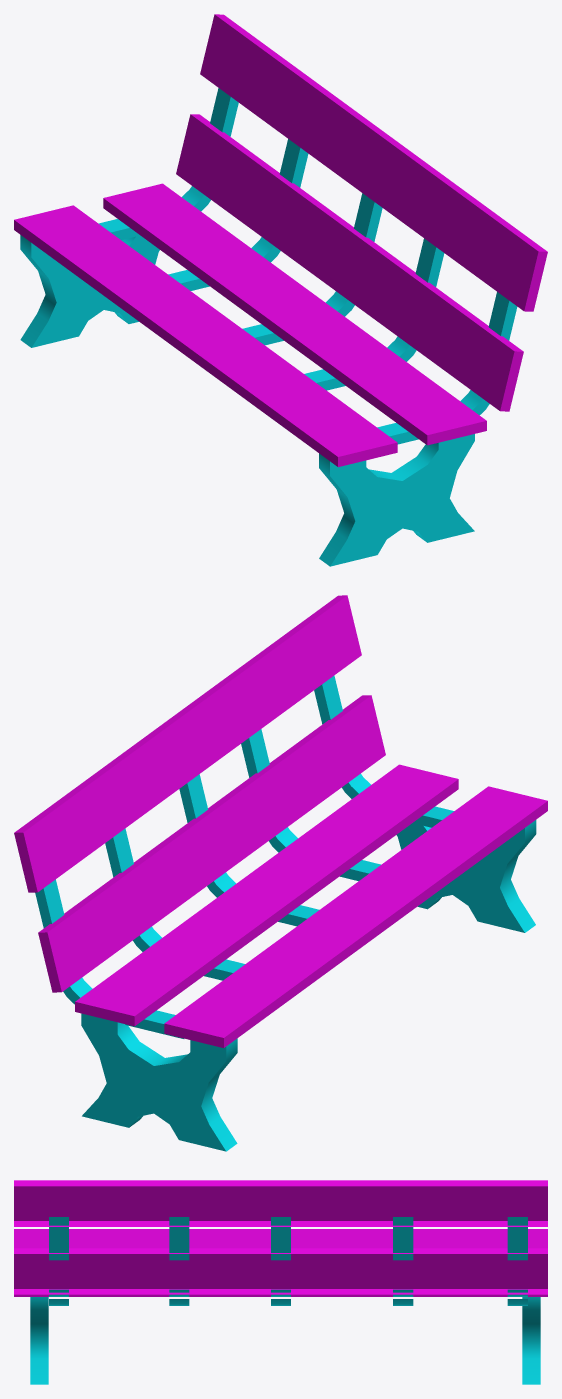
File: Panchina.fbx
The picture shows the model from 3 angles, top to bottom: view 1: azimuth 30°, elevation 25°; view 2: azimuth 150°, elevation 25°; view 3: azimuth 270°, elevation 25°; orthographic projection. The views are drawn at different scales.
Visible parts, largest first — view 1: Panchina; view 2: Panchina; view 3: Panchina.
Boxes of the visible parts, left/top/right/bottom form: Panchina: left=14, top=14, right=547, bottom=566; Panchina: left=14, top=595, right=547, bottom=1151; Panchina: left=14, top=1180, right=547, bottom=1384.
Bounding box in the file's own units: 47.24 × 58.92 × 126.
